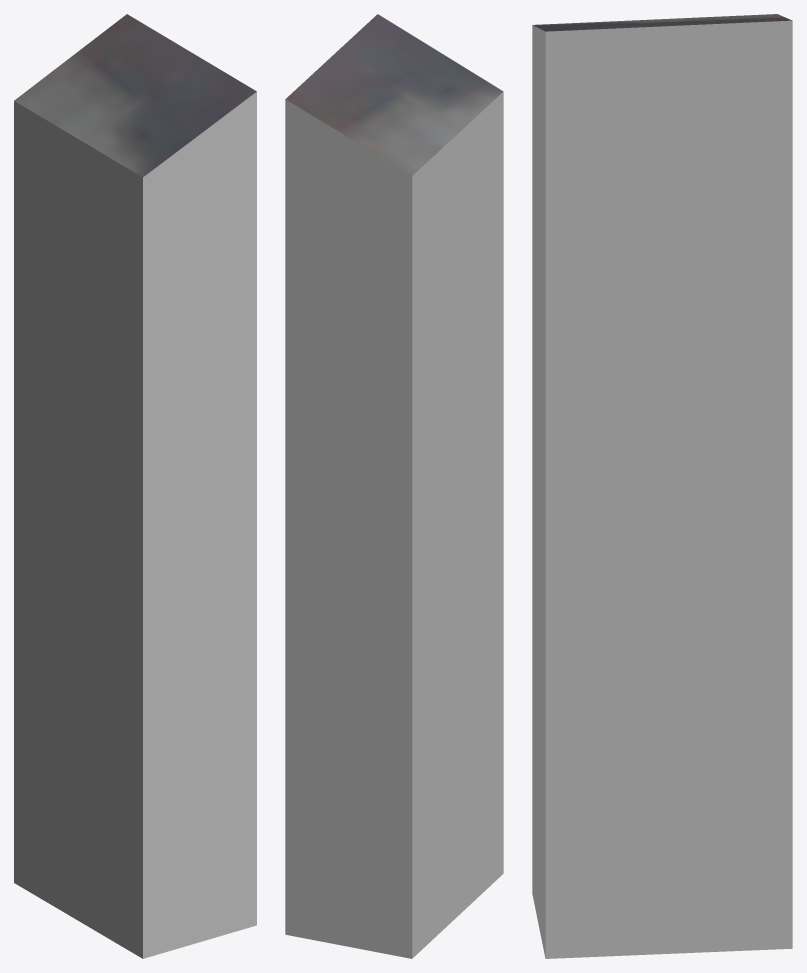
The model's file is DEBW_0010007THWK.gltf.
The picture shows the model from 3 angles, left to right: view 1: azimuth 30°, elevation 25°; view 2: azimuth 150°, elevation 25°; view 3: azimuth 270°, elevation 25°; orthographic projection. The views are drawn at different scales.
Parts seen in each view (by area): view 1: Z_UP; view 2: Z_UP; view 3: Z_UP.
Part boxes in pixels (x1=…): Z_UP: x1=14, y1=14, x2=256, y2=958; Z_UP: x1=285, y1=14, x2=503, y2=958; Z_UP: x1=532, y1=14, x2=792, y2=958.
Bounding box in the file's own units: 2.58 × 14.84 × 3.77.
2 materials, 1 textured.
